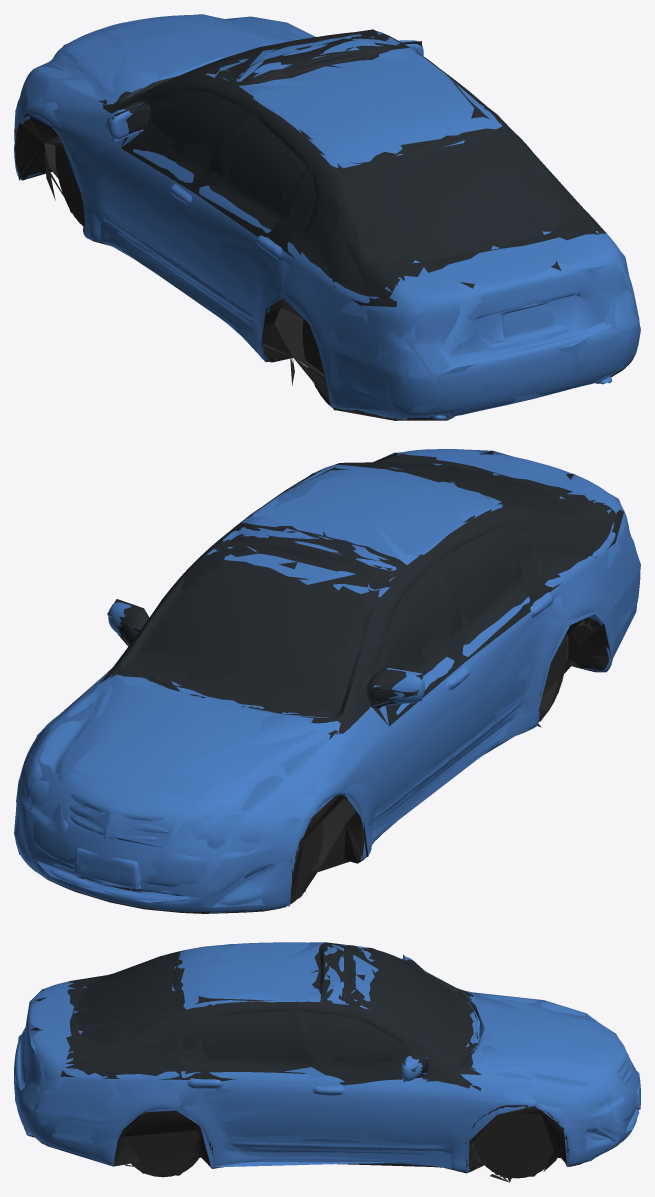
Rendered from hyundai-genesis.glb.
3 renders of one model, top to bottom at view 1: azimuth 30°, elevation 25°; view 2: azimuth 150°, elevation 25°; view 3: azimuth 270°, elevation 25°, orthographic. The views are drawn at different scales.
Parts seen in each view (by area): view 1: body, far; view 2: body, far; view 3: body, far.
Part boxes in pixels (bbox=[...]): body: bbox=[14, 15, 639, 420]; far: bbox=[14, 14, 640, 416]; body: bbox=[14, 449, 640, 913]; far: bbox=[14, 449, 640, 907]; body: bbox=[14, 942, 640, 1182]; far: bbox=[14, 942, 640, 1176].
Size of the model in its own units: 2.08 by 1.55 by 4.99.
